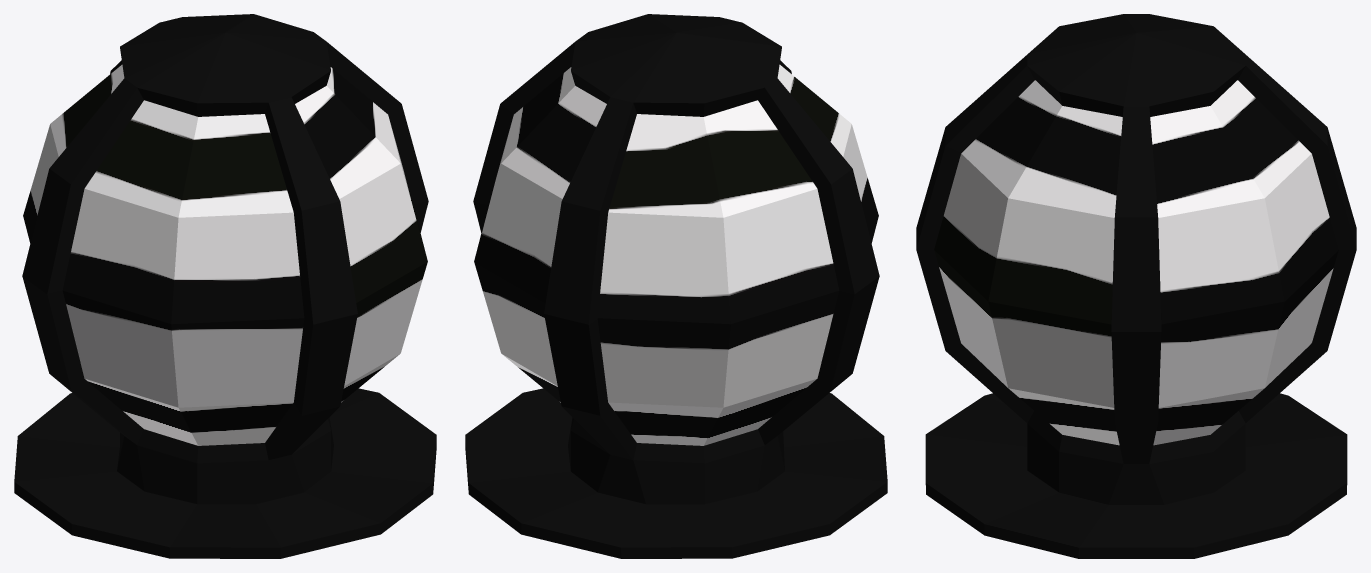
Rendered from Lamp.fbx.
3 views of the same model, side by side, from view 1: azimuth 30°, elevation 25°; view 2: azimuth 150°, elevation 25°; view 3: azimuth 270°, elevation 25° (orthographic).
Parts seen in each view (by area): view 1: Sphere; view 2: Sphere; view 3: Sphere.
Boxes of the visible parts, x1=… form: Sphere: x1=14, y1=14, x2=436, y2=558; Sphere: x1=465, y1=14, x2=887, y2=558; Sphere: x1=916, y1=14, x2=1356, y2=558.
Size of the model in its own units: 168 by 168 by 185.
